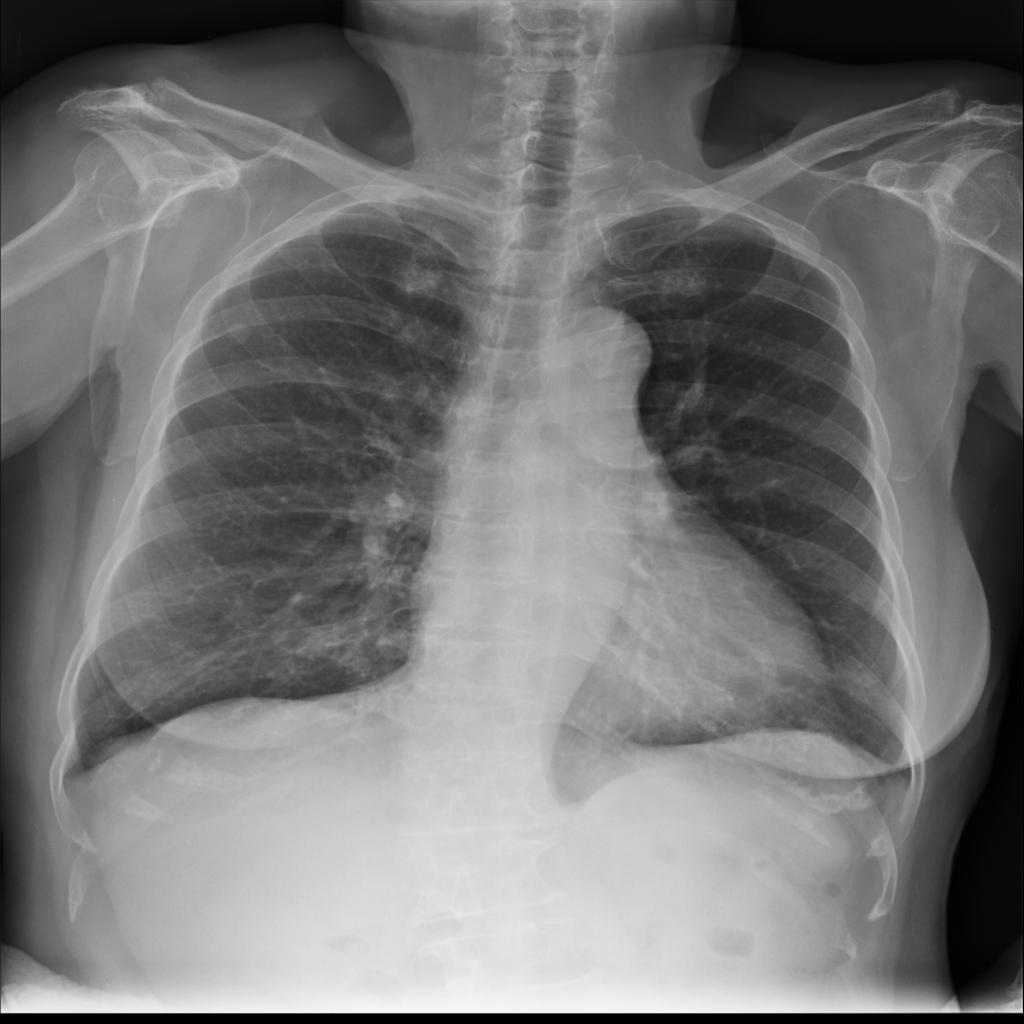Nodule: (843, 654, 881, 687), (225, 326, 249, 346)
